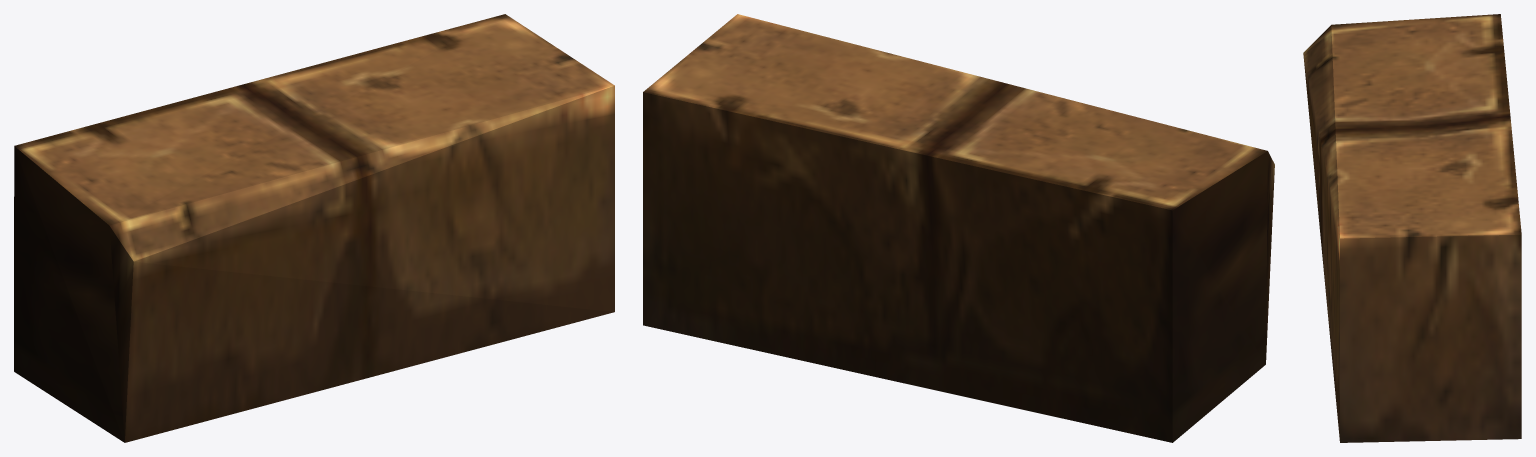
File: ShiZhuan01.FBX
3 views of the same model, side by side, from view 1: azimuth 30°, elevation 25°; view 2: azimuth 150°, elevation 25°; view 3: azimuth 270°, elevation 25° (orthographic). The views are drawn at different scales.
Visible parts, largest first — view 1: ShiZhuan01; view 2: ShiZhuan01; view 3: ShiZhuan01.
Boxes of the visible parts, x1=… form: ShiZhuan01: x1=14, y1=14, x2=614, y2=442; ShiZhuan01: x1=643, y1=14, x2=1274, y2=442; ShiZhuan01: x1=1303, y1=14, x2=1521, y2=442.
Bounding box in the file's own units: 180 × 75.96 × 73.57.
